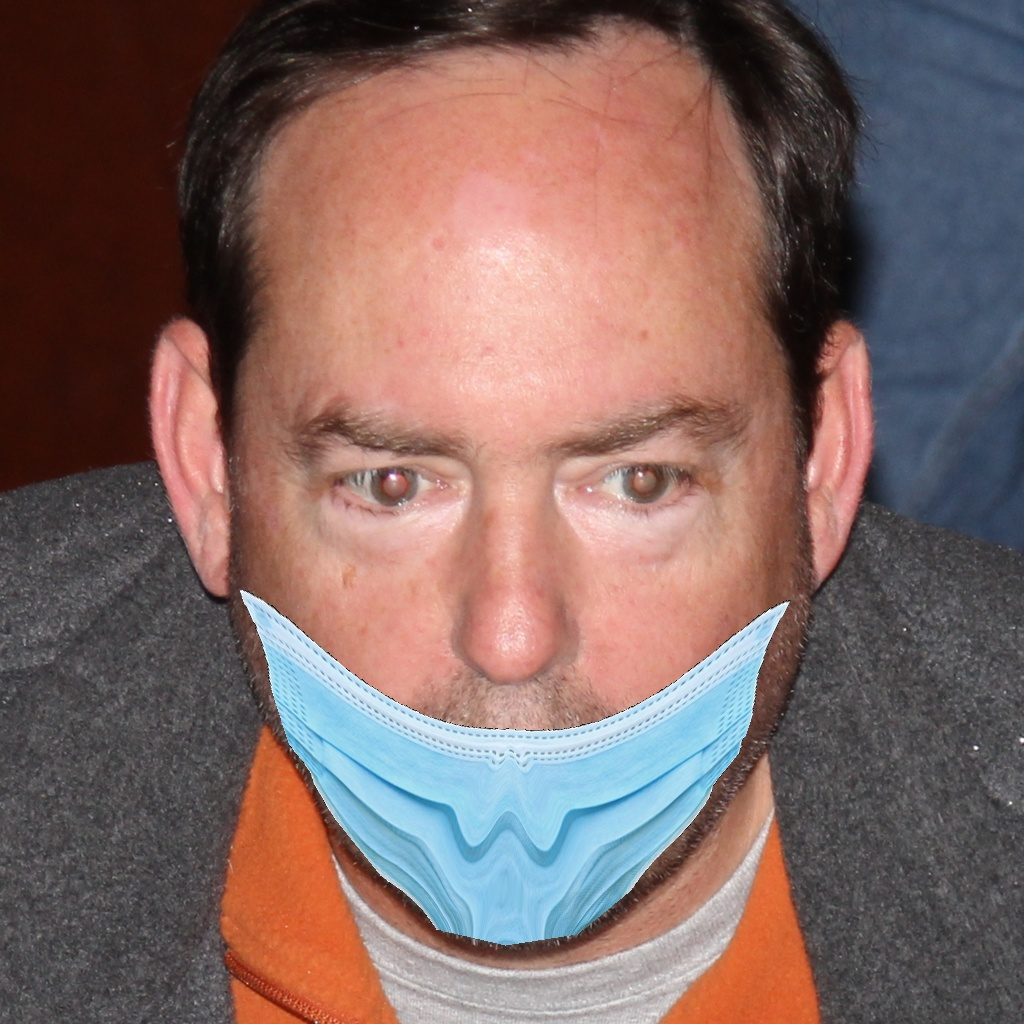mascarilla_mal_puesta: (207, 348, 809, 930)
